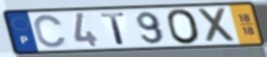4: (72, 11, 100, 49)
9: (135, 10, 167, 45)
C: (33, 14, 69, 50)
O: (165, 7, 203, 45)
T: (99, 12, 128, 46)
X: (196, 6, 238, 45)
